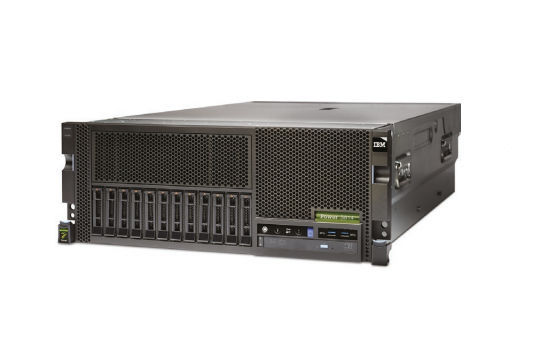ibm-server: (48, 93, 471, 276)
